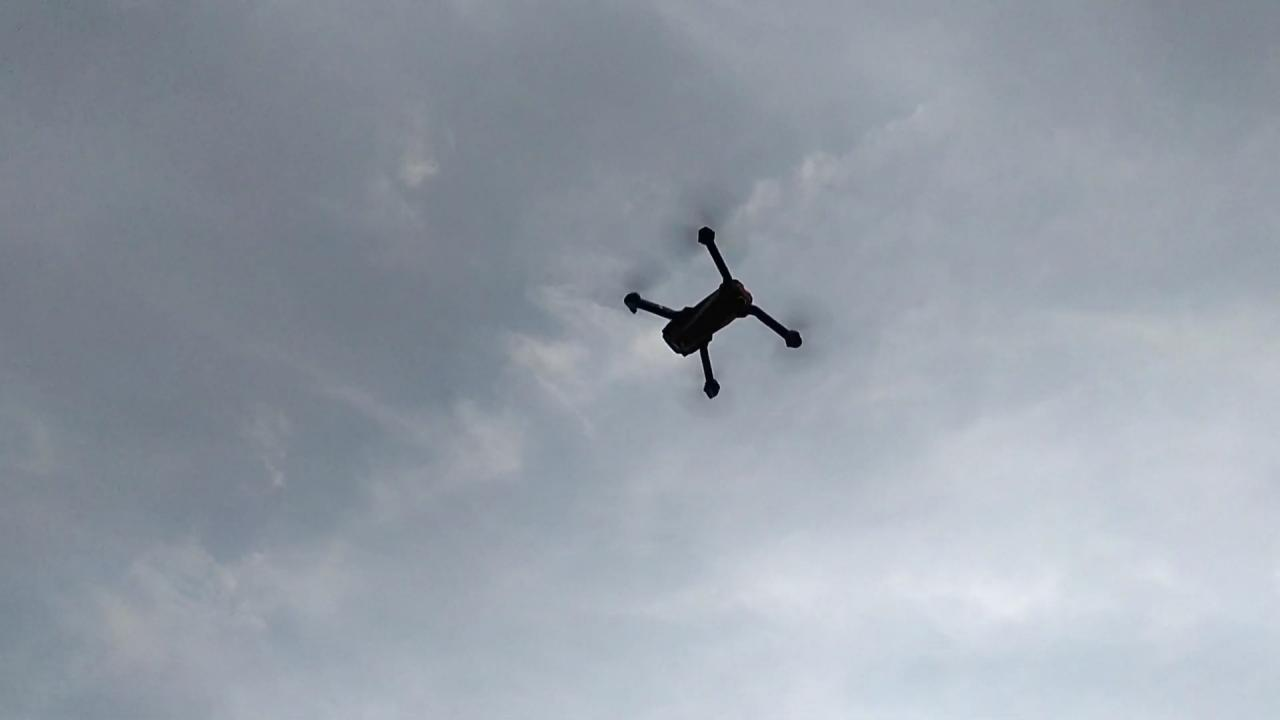Drone: (605, 200, 820, 416)
